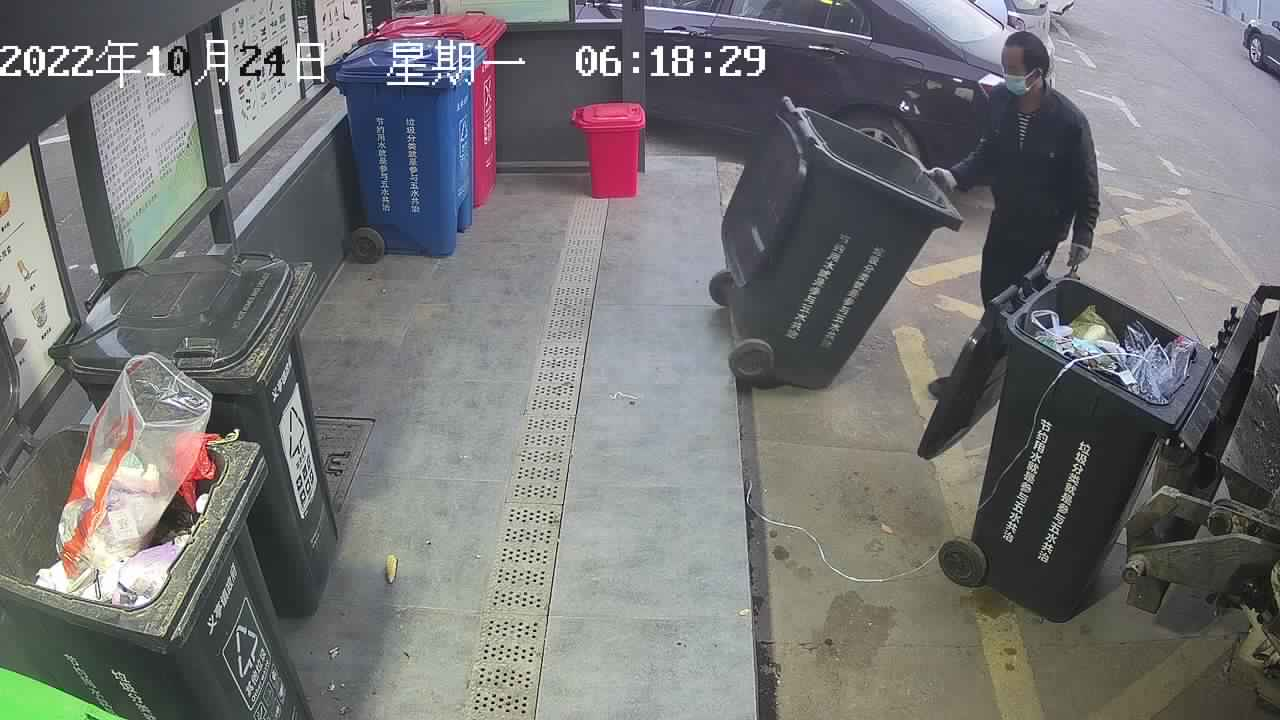person: (917, 26, 1102, 403)
